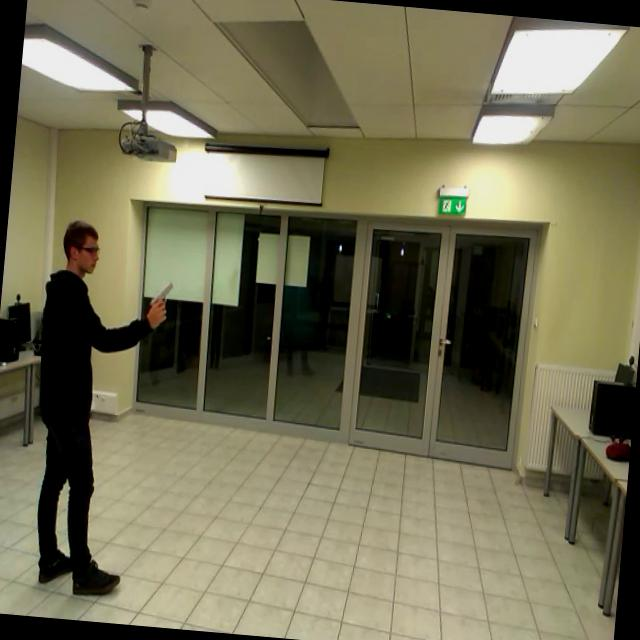handgun: (142, 272, 178, 333)
